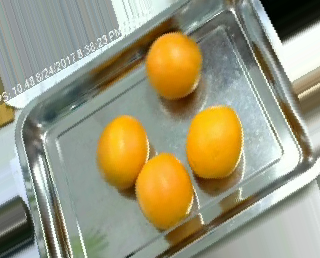Orange: (134, 152, 193, 230), (185, 105, 242, 179), (96, 114, 150, 187), (146, 31, 202, 100)
